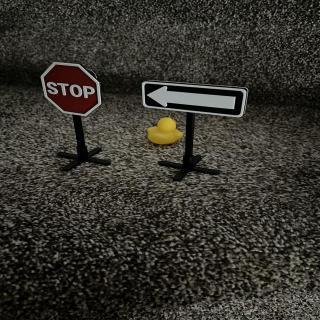duck_regular: (149, 118, 185, 148)
sign_oneway_left: (142, 82, 250, 120)
sign_stop: (42, 63, 104, 119)
